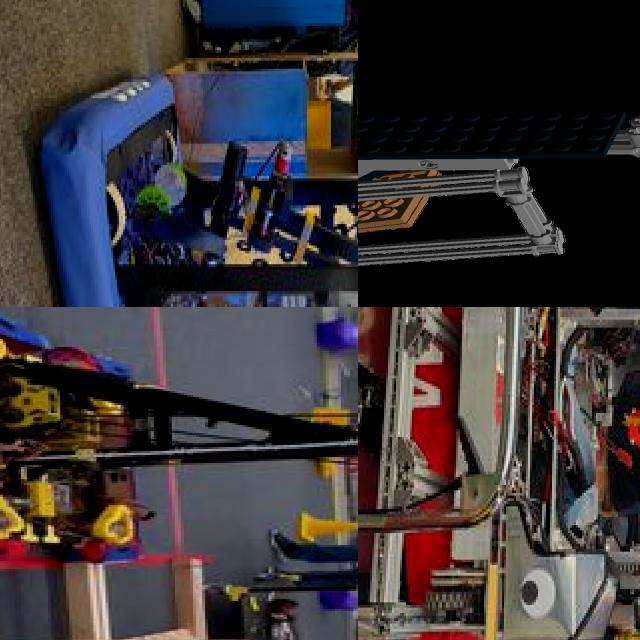FRC-Robots: (0, 307, 358, 640), (51, 12, 358, 307), (445, 307, 640, 640), (358, 53, 542, 307)
